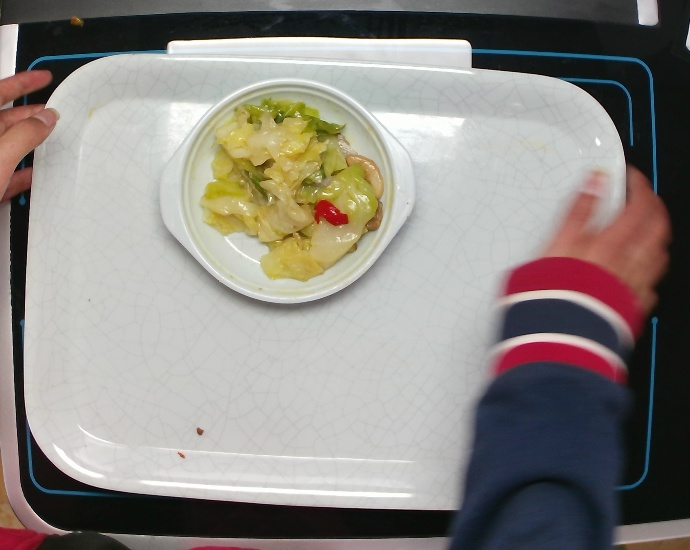JYsf-Shuang_Er_Pan: (153, 74, 419, 311)
